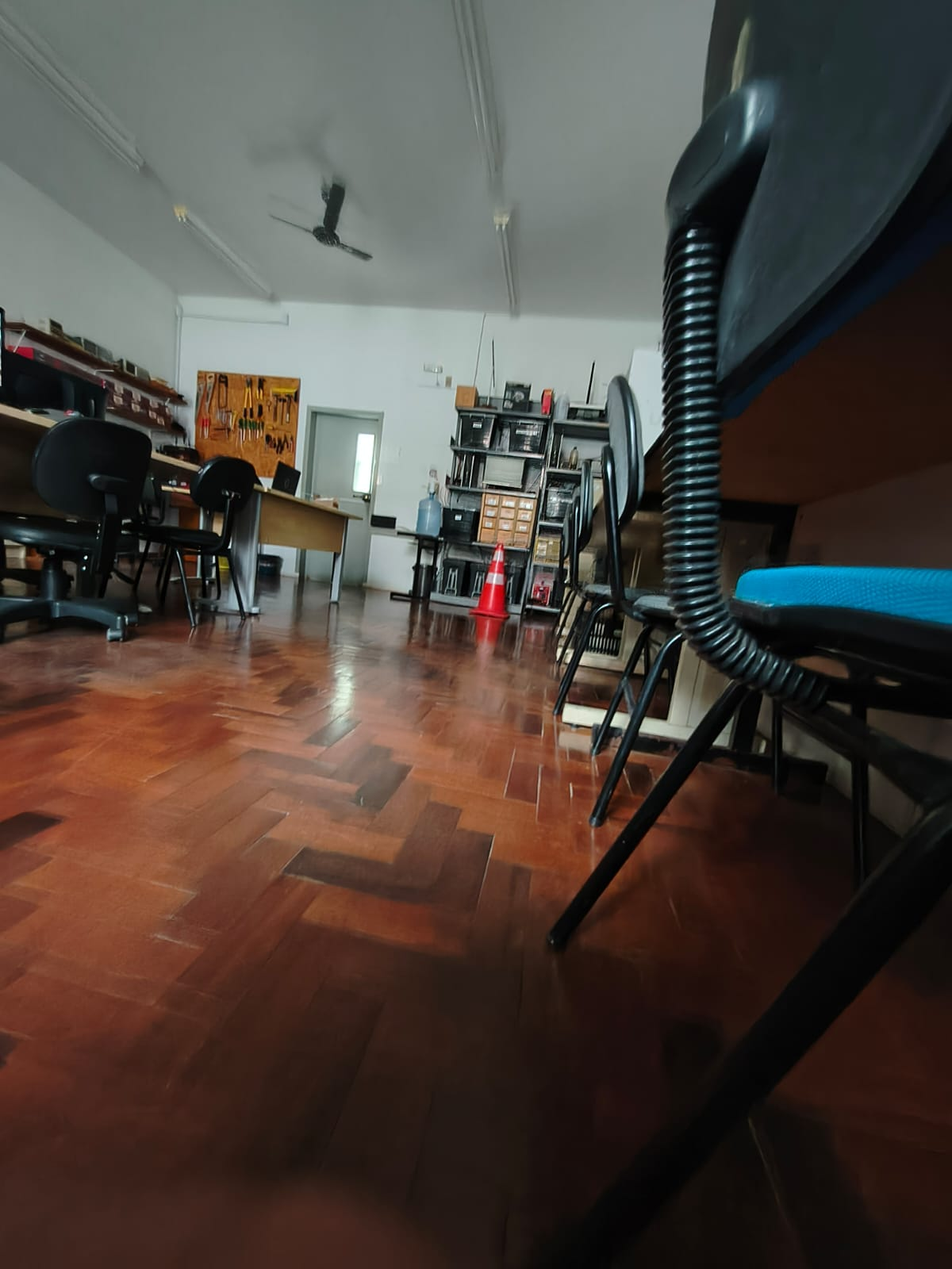cone: (471, 532, 514, 635)
